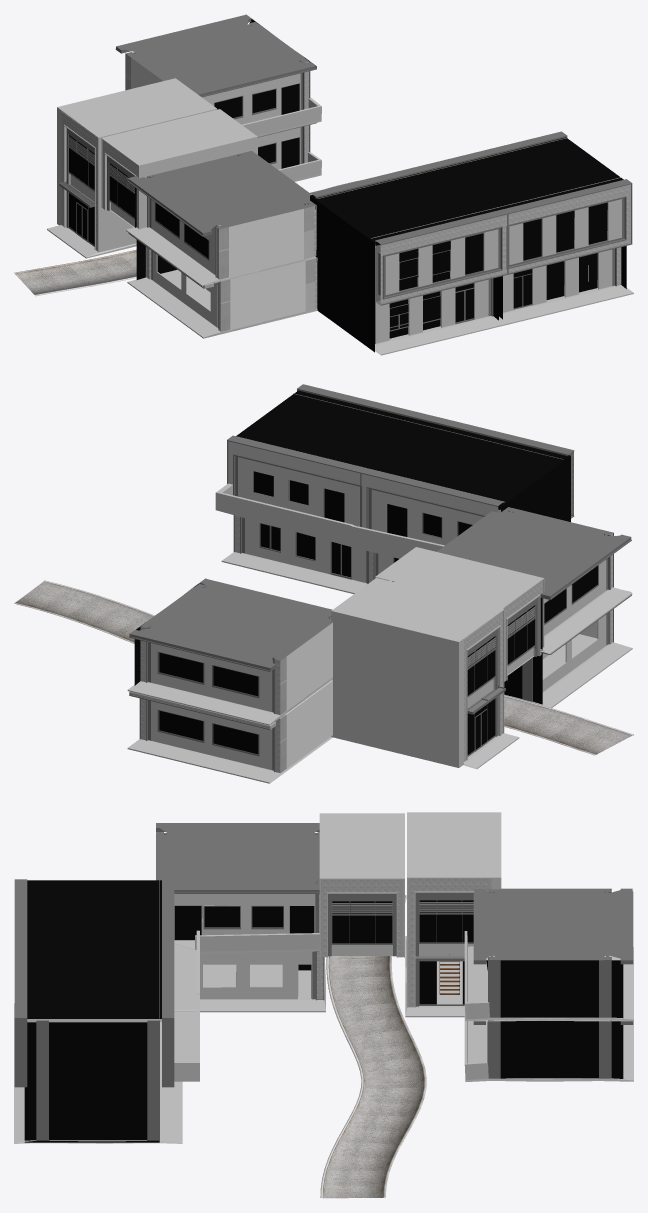
File: School.fbx
3 renders of one model, top to bottom at view 1: azimuth 30°, elevation 25°; view 2: azimuth 150°, elevation 25°; view 3: azimuth 270°, elevation 25°, orthographic. The views are drawn at different scales.
Visible parts, largest first — view 1: Mini Office.001, Mini Office.005, Mini Office.002, Mini Office.003, Mini Office.019, Mini Office.006, Plane.001; view 2: Mini Office.003, Mini Office.019, Mini Office.002, Mini Office.001, Mini Office.005, Mini Office.006, Plane.001; view 3: Mini Office.002, Mini Office.003, Mini Office.005, Plane.001, Mini Office.019, Mini Office.001, Mini Office.006.
Part boxes in pixels (x1,y1,x2,y2): Mini Office.001: (310, 161, 509, 355); Mini Office.005: (126, 151, 317, 338); Mini Office.002: (438, 131, 633, 325); Mini Office.003: (115, 14, 321, 181); Mini Office.019: (47, 78, 217, 258); Mini Office.006: (101, 109, 257, 229); Plane.001: (14, 180, 360, 296); Mini Office.003: (127, 578, 332, 783); Mini Office.019: (331, 578, 519, 769); Mini Office.002: (215, 384, 435, 593); Mini Office.001: (353, 416, 574, 583); Mini Office.005: (436, 507, 632, 707); Mini Office.006: (375, 547, 544, 681); Plane.001: (14, 580, 633, 755); Mini Office.002: (14, 949, 199, 1143); Mini Office.003: (464, 888, 633, 1081); Mini Office.005: (156, 823, 325, 1012); Plane.001: (320, 895, 426, 1198); Mini Office.019: (405, 812, 501, 1017); Mini Office.001: (14, 879, 199, 1074); Mini Office.006: (319, 813, 404, 957).
Size of the model in its own units: 4018 by 811 by 3431.
